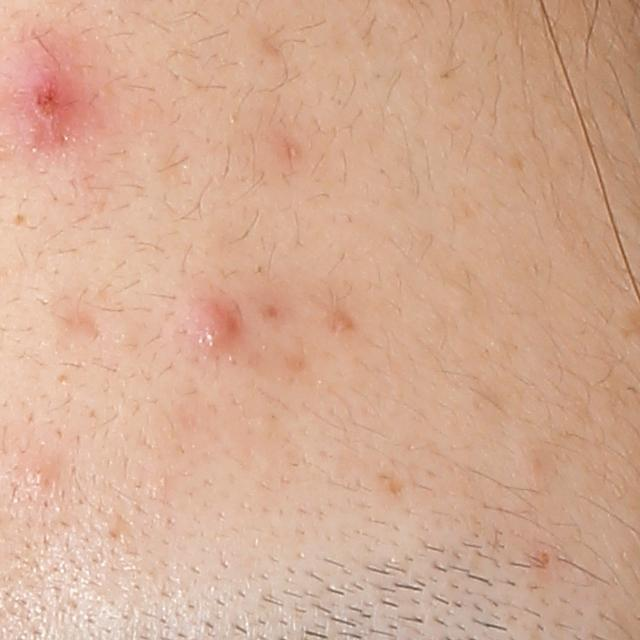atrophic_scar: (56, 308, 102, 343)
papule: (183, 297, 241, 363)
